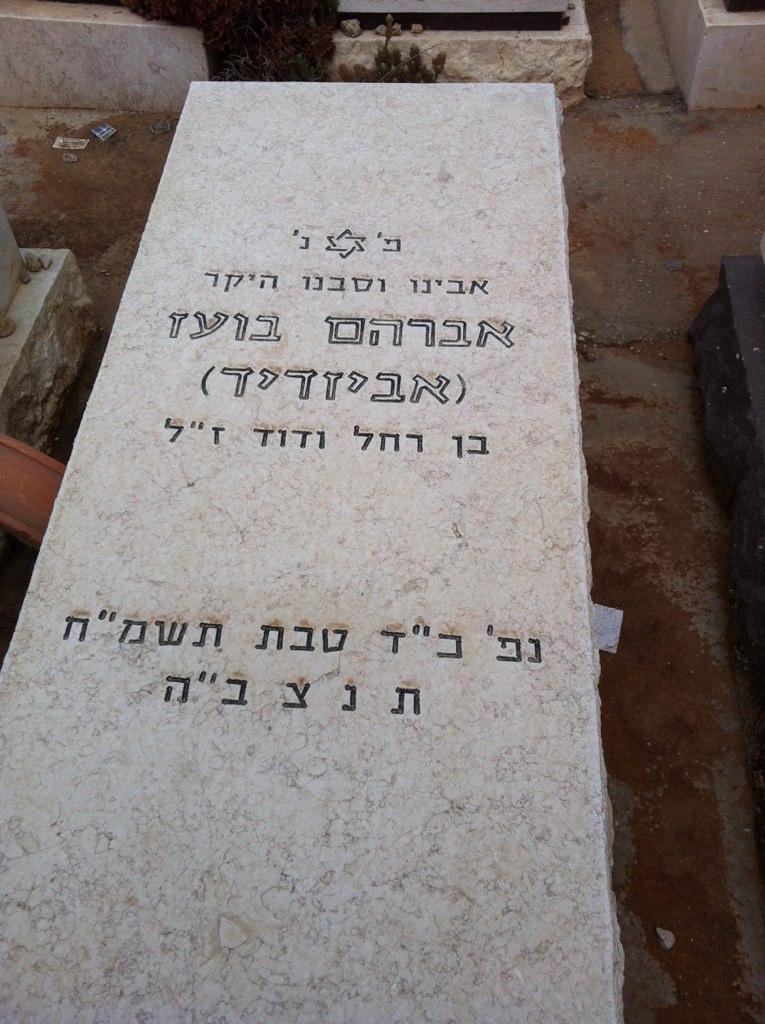vault: (0, 82, 614, 1009)
